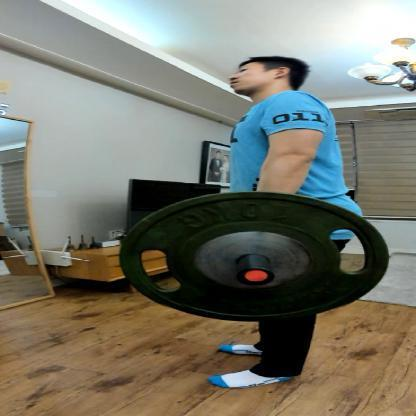barbell: (117, 189, 391, 324)
